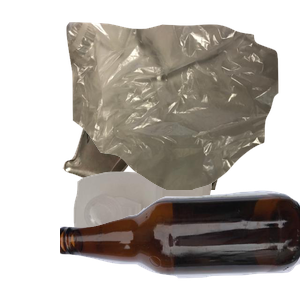glass: (60, 188, 300, 300)
metal: (60, 47, 300, 227)
plastic: (71, 169, 275, 300)
trash: (64, 20, 300, 200)
